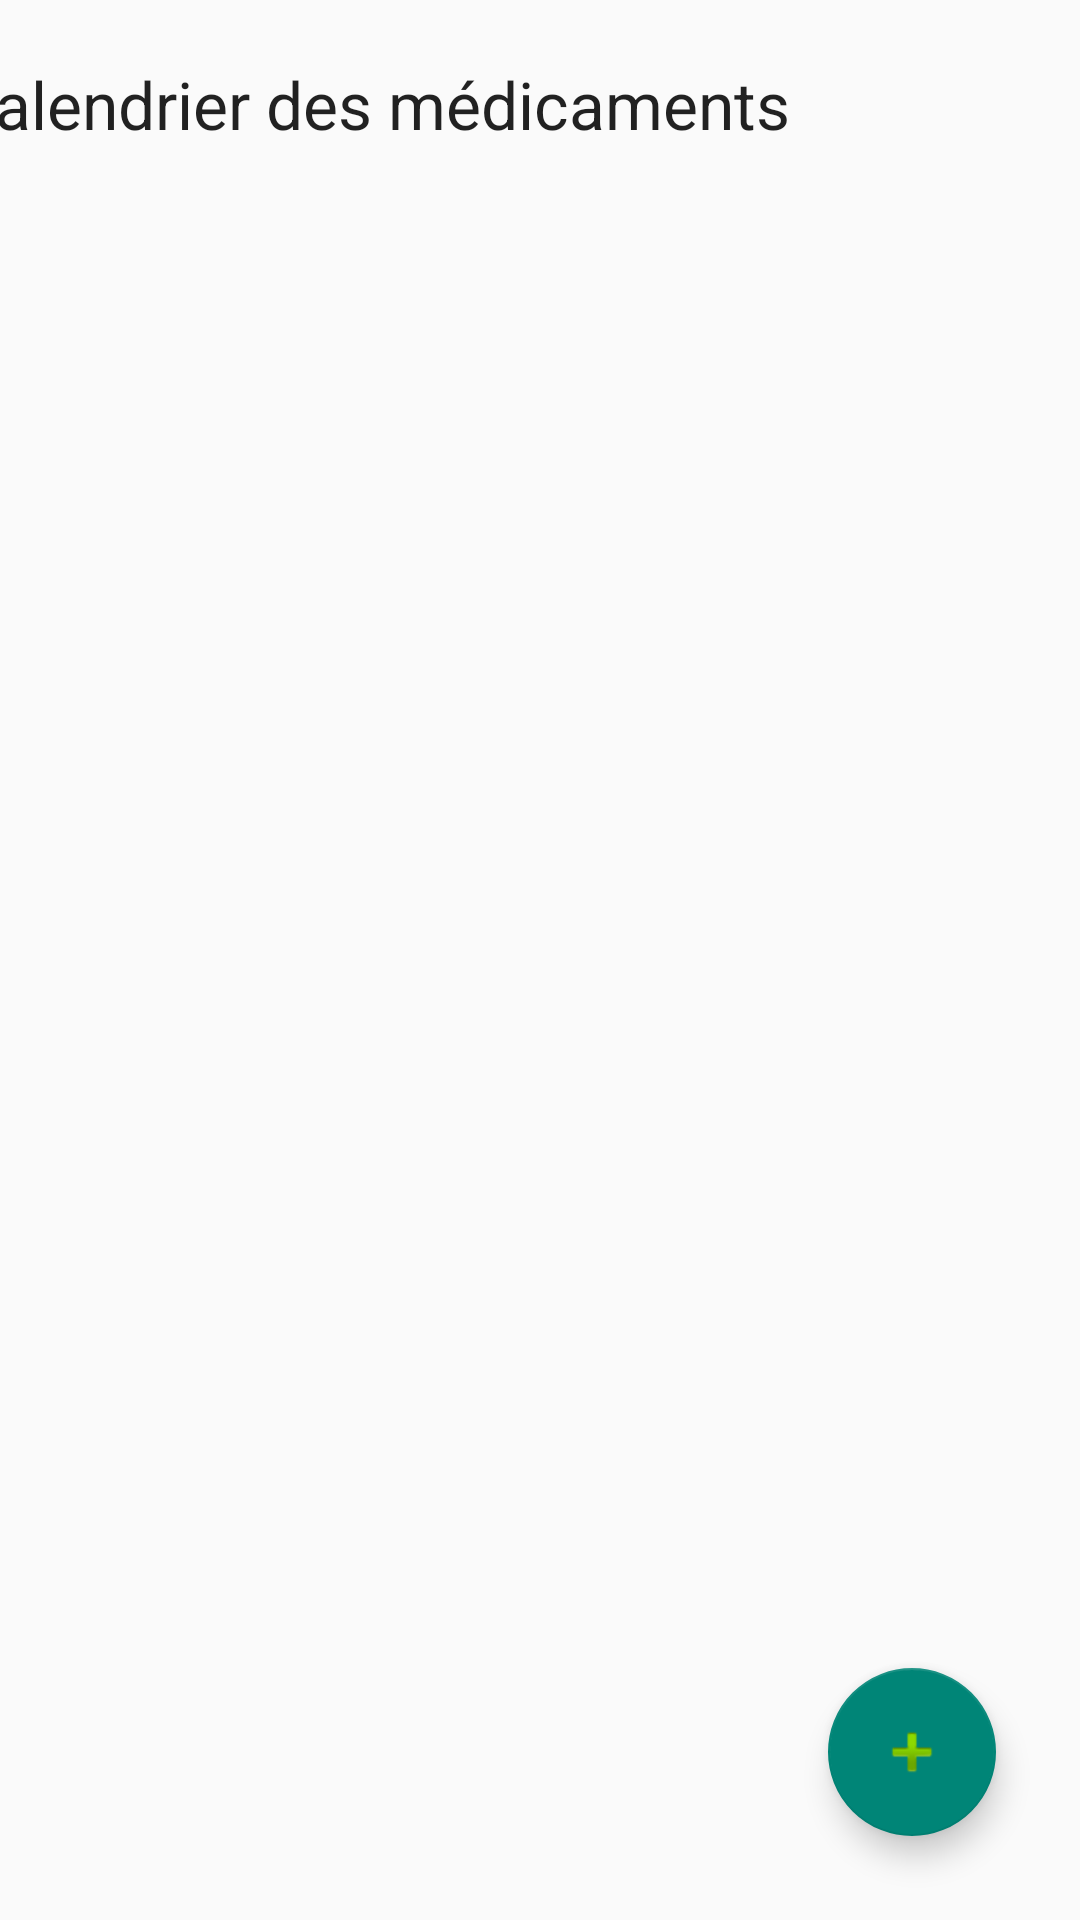

Named icons in this screenshot (1080px×1920px) and their centers, (x=x, y=y):
add: (x=912, y=1752)
